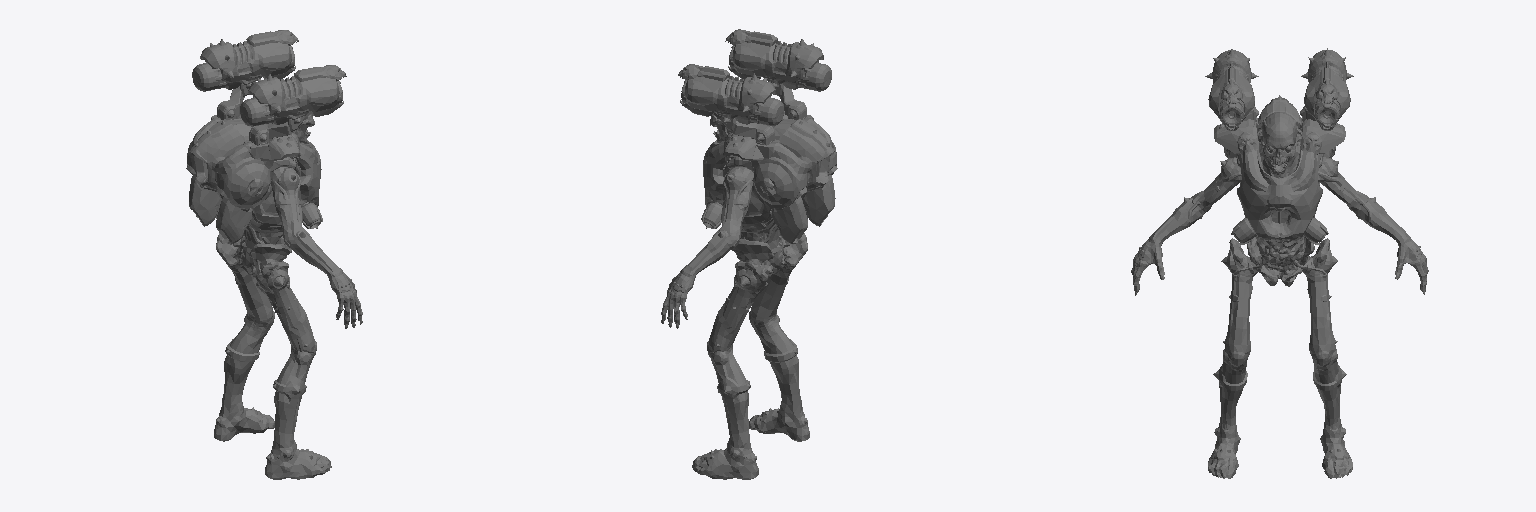
Rendered from Revenant.obj.
The picture shows the model from 3 angles: view 1: azimuth 30°, elevation 25°; view 2: azimuth 150°, elevation 25°; view 3: azimuth 270°, elevation 25°; orthographic projection.
Parts seen in each view (by area): view 1: revenant_body, revenant_armor, revenant_chest; view 2: revenant_body, revenant_armor, revenant_chest; view 3: revenant_body, revenant_armor, revenant_head, revenant_chest.
Boxes of the visible parts, x1=… form: revenant_body: x1=196, y1=167, x2=362, y2=479; revenant_armor: x1=186, y1=30, x2=346, y2=229; revenant_chest: x1=189, y1=46, x2=342, y2=244; revenant_body: x1=661, y1=167, x2=827, y2=479; revenant_armor: x1=678, y1=29, x2=837, y2=229; revenant_chest: x1=681, y1=45, x2=835, y2=243; revenant_body: x1=1131, y1=157, x2=1428, y2=478; revenant_armor: x1=1205, y1=48, x2=1353, y2=244; revenant_head: x1=1258, y1=112, x2=1301, y2=177; revenant_chest: x1=1219, y1=100, x2=1339, y2=238.
Size of the model in its own units: 6.51 by 19.39 by 12.89.